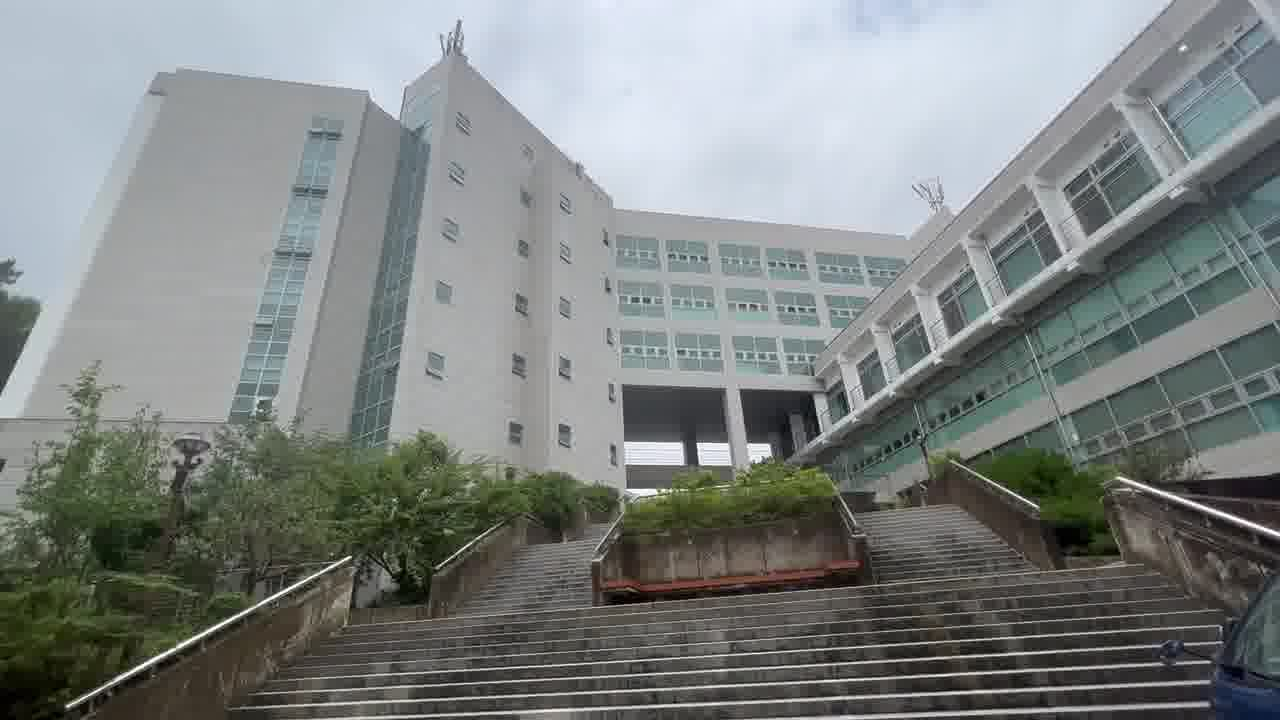low: (63, 51, 863, 427)
